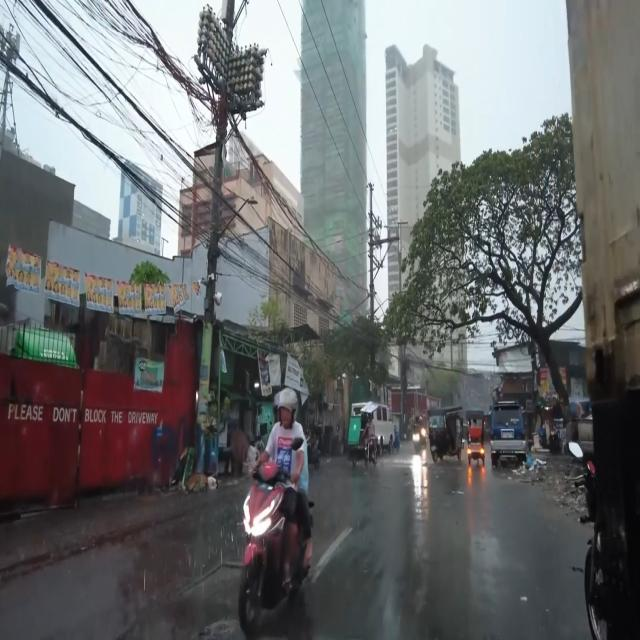half: (278, 388, 298, 430)
